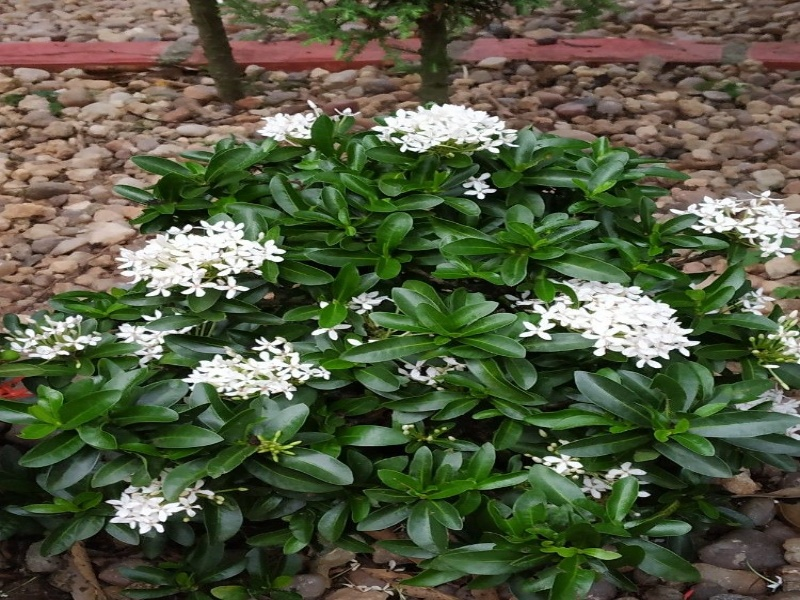Ixora: (503, 256, 699, 380), (368, 80, 542, 213), (99, 213, 295, 301), (177, 323, 336, 423)
